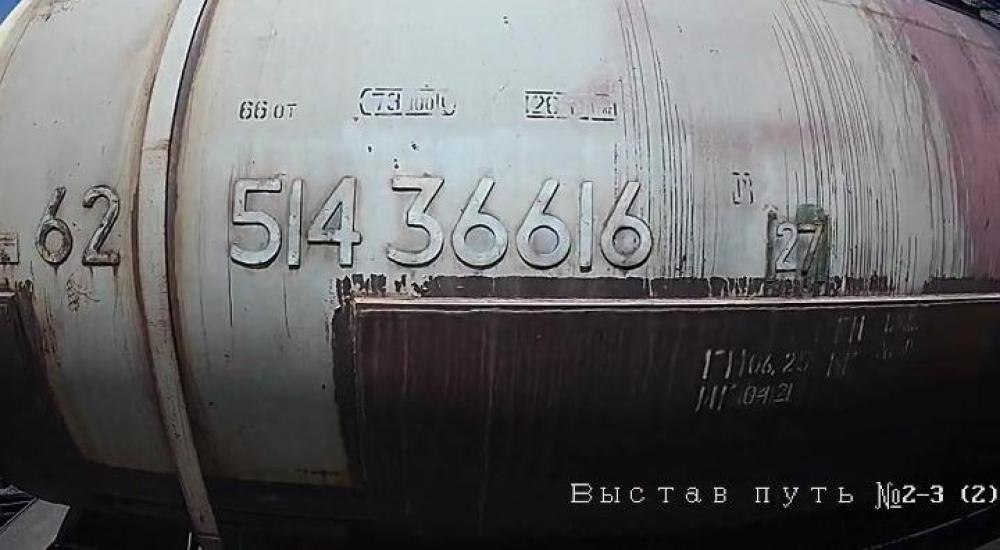Wagon-number: (222, 169, 658, 278)
